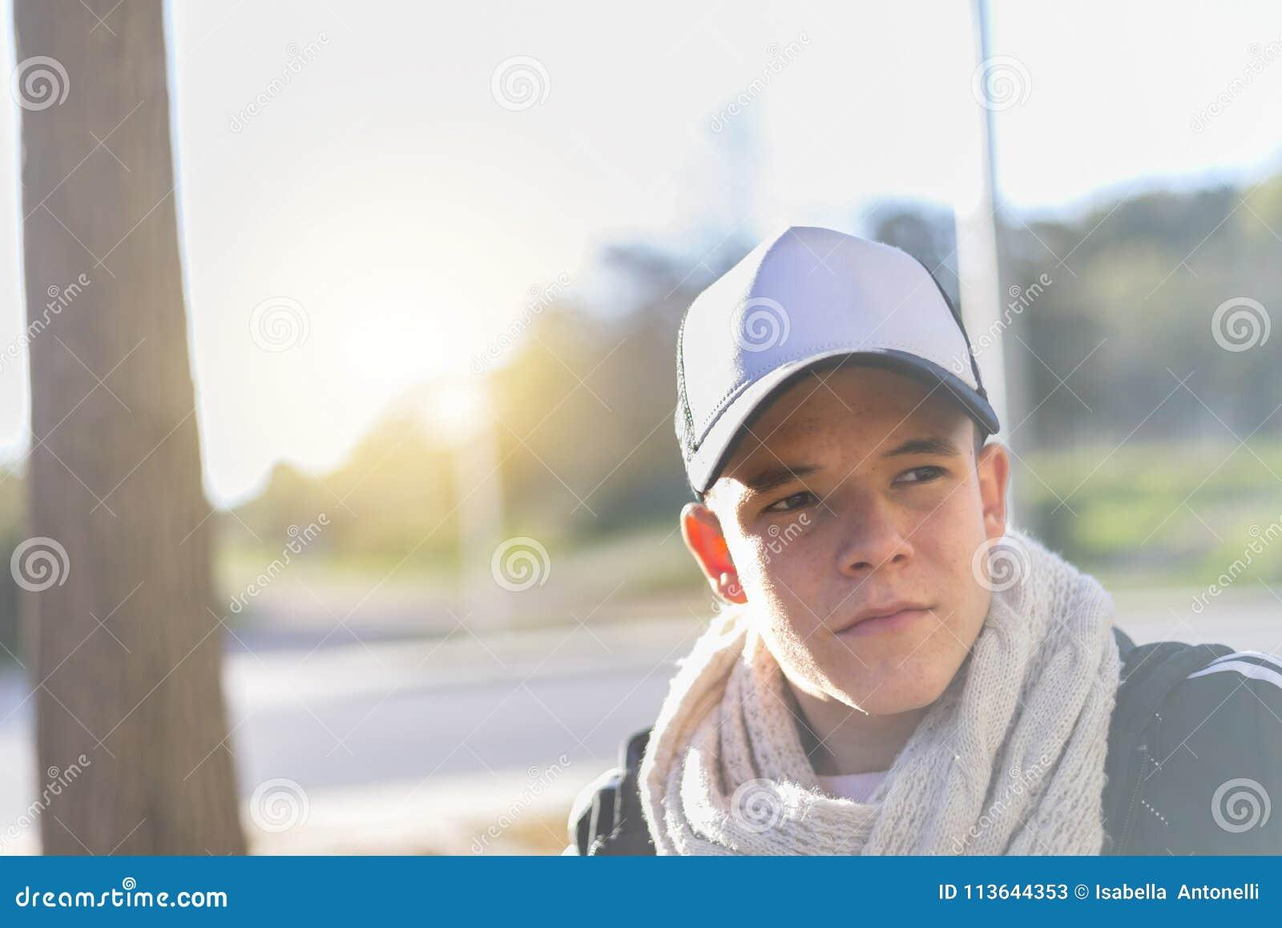cap: (649, 176, 1015, 478)
